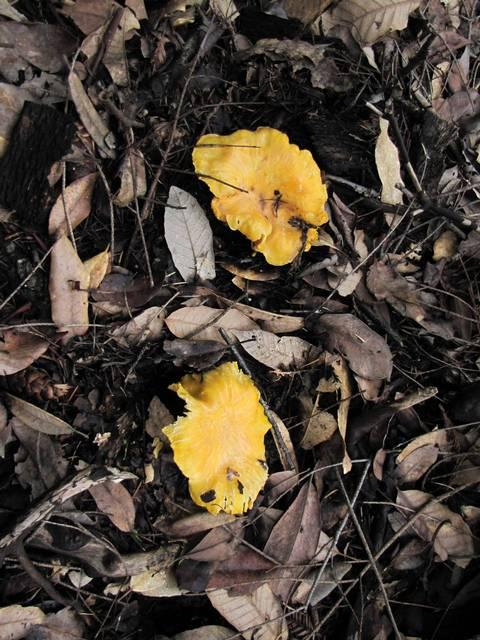edible_mushroom: (190, 124, 330, 267), (160, 359, 275, 516)
